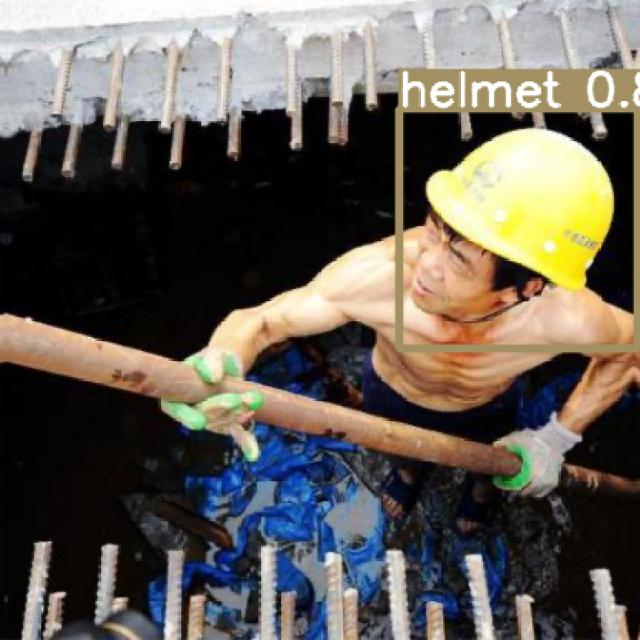helmet: (398, 108, 637, 348)
